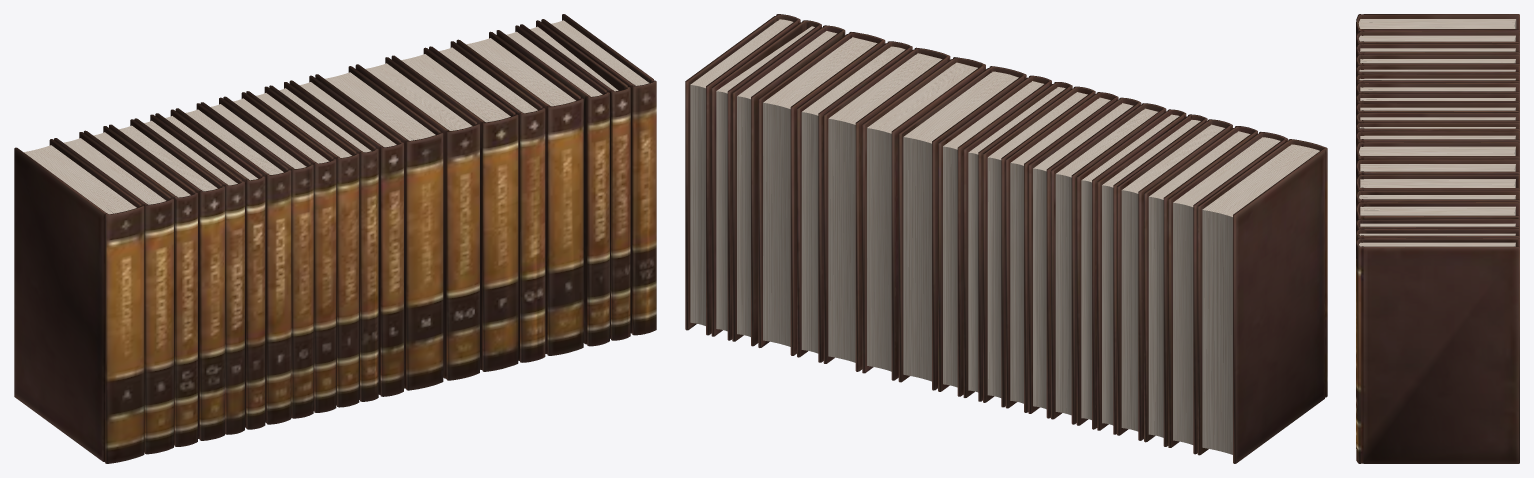
File: book_encyclopedia_set_01.glb
The picture shows the model from 3 angles, left to right: view 1: azimuth 30°, elevation 25°; view 2: azimuth 150°, elevation 25°; view 3: azimuth 270°, elevation 25°; orthographic projection. The views are drawn at different scales.
Parts seen in each view (by area): view 1: book_encyclopedia_set_01_book01; view 2: book_encyclopedia_set_01_book01; view 3: book_encyclopedia_set_01_book01.
Part boxes in pixels (left/top/right/bottom): book_encyclopedia_set_01_book01: left=14, top=14, right=656, bottom=463; book_encyclopedia_set_01_book01: left=685, top=14, right=1327, bottom=463; book_encyclopedia_set_01_book01: left=1356, top=14, right=1519, bottom=463.
Size of the model in its own units: 0.5513 by 0.2374 by 0.1631.
2 materials, 2 textured.
